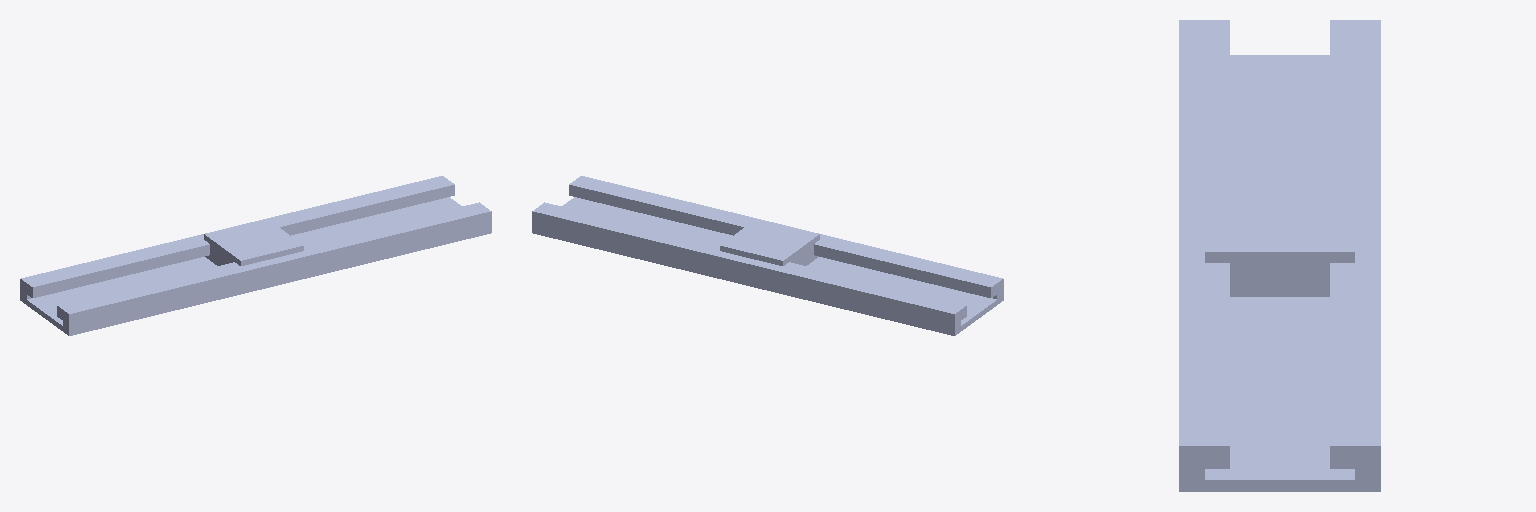
robot.urdf — gantry:
<?xml version="1.0" ?>
<!-- =================================================================================== -->
<!-- |    This document was autogenerated by xacro from gantry.urdf.xacro              | -->
<!-- |    EDITING THIS FILE BY HAND IS NOT RECOMMENDED                                 | -->
<!-- =================================================================================== -->
<robot name="gantry">
  <!--
    Base UR robot series xacro macro.

    NOTE: this is NOT a URDF. It cannot directly be loaded by consumers
    expecting a flattened '.urdf' file. See the top-level '.xacro' for that
    (but note: that .xacro must still be processed by the xacro command).

    For use in '.launch' files: use one of the 'load_urX.launch' convenience
    launch files.

    This file models the base kinematic chain of a UR robot, which then gets
    parameterised by various configuration files to convert it into a UR3(e),
    UR5(e), UR10(e), UR16e, UR20 or UR30.

    NOTE: the default kinematic parameters (ie: link lengths, frame locations,
    offets, etc) do not correspond to any particular robot. They are defaults
    only. There WILL be non-zero offsets between the Forward Kinematics results
    in TF (ie: robot_state_publisher) and the values reported by the Teach
    Pendant.

    For accurate (and robot-specific) transforms, the 'kinematics_parameters_file'
    parameter MUST point to a .yaml file containing the appropriate values for
    the targetted robot.

    If using the UniversalRobots/Universal_Robots_ROS_Driver, follow the steps
    described in the readme of that repository to extract the kinematic
    calibration from the controller and generate the required .yaml file.

    Main author of the migration to yaml configs: [author].

    Contributors to previous versions (in no particular order):

     - [author]
     - [author]
     - [author]
     - [author]
     - [author]
     - [author]
     - [author]
     - [author]
     - [author]
     - [author]
     - [author]
     - [author]
     - [author]
     - [author]
     - [author]
     - [author]
     - [author]
  -->
  <!--
    NOTE: the macro defined in this file is NOT part of the public API of this
          package. Users CANNOT rely on this file being available, or stored in
          this location. Nor can they rely on the existence of the macro.
  -->
  <transmission name="ur_shoulder_pan_trans">
    <type>transmission_interface/SimpleTransmission</type>
    <joint name="ur_shoulder_pan_joint">
      <hardwareInterface>hardware_interface/PositionJointInterface</hardwareInterface>
    </joint>
    <actuator name="ur_shoulder_pan_motor">
      <mechanicalReduction>1</mechanicalReduction>
    </actuator>
  </transmission>
  <transmission name="ur_shoulder_lift_trans">
    <type>transmission_interface/SimpleTransmission</type>
    <joint name="ur_shoulder_lift_joint">
      <hardwareInterface>hardware_interface/PositionJointInterface</hardwareInterface>
    </joint>
    <actuator name="ur_shoulder_lift_motor">
      <mechanicalReduction>1</mechanicalReduction>
    </actuator>
  </transmission>
  <transmission name="ur_elbow_trans">
    <type>transmission_interface/SimpleTransmission</type>
    <joint name="ur_elbow_joint">
      <hardwareInterface>hardware_interface/PositionJointInterface</hardwareInterface>
    </joint>
    <actuator name="ur_elbow_motor">
      <mechanicalReduction>1</mechanicalReduction>
    </actuator>
  </transmission>
  <transmission name="ur_wrist_1_trans">
    <type>transmission_interface/SimpleTransmission</type>
    <joint name="ur_wrist_1_joint">
      <hardwareInterface>hardware_interface/PositionJointInterface</hardwareInterface>
    </joint>
    <actuator name="ur_wrist_1_motor">
      <mechanicalReduction>1</mechanicalReduction>
    </actuator>
  </transmission>
  <transmission name="ur_wrist_2_trans">
    <type>transmission_interface/SimpleTransmission</type>
    <joint name="ur_wrist_2_joint">
      <hardwareInterface>hardware_interface/PositionJointInterface</hardwareInterface>
    </joint>
    <actuator name="ur_wrist_2_motor">
      <mechanicalReduction>1</mechanicalReduction>
    </actuator>
  </transmission>
  <transmission name="ur_wrist_3_trans">
    <type>transmission_interface/SimpleTransmission</type>
    <joint name="ur_wrist_3_joint">
      <hardwareInterface>hardware_interface/PositionJointInterface</hardwareInterface>
    </joint>
    <actuator name="ur_wrist_3_motor">
      <mechanicalReduction>1</mechanicalReduction>
    </actuator>
  </transmission>


  <!-- links: main serial chain -->
  <link name="bs_link">
    <inertial>
      <origin rpy="0 0 0" xyz="1.1102E-16 2.7756E-16 0.043056"/>
      <mass value="45"/>
      <inertia ixx="0.9322" ixy="-1.4174E-16" ixz="5.421E-17" iyy="15.045" iyz="-3.9613E-16" izz="15.888"/>
    </inertial>
    <visual>
      <origin rpy="0 0 0" xyz="0 0 0"/>
      <geometry>
        <mesh filename="package://gantry/meshes/bs_link.STL"/>
      </geometry>
      <material name="">
        <color rgba="0.79216 0.81961 0.93333 1"/>
      </material>
    </visual>
    <collision>
      <origin rpy="0 0 0" xyz="0 0 0"/>
      <geometry>
        <mesh filename="package://gantry/meshes/bs_link.STL"/>
      </geometry>
    </collision>
  </link>
  <link name="linear_rail">
    <inertial>
      <origin rpy="0 0 0" xyz="-1.1102E-16 0 -0.05"/>
      <mass value="7.5"/>
      <inertia ixx="0.050938" ixy="-2.7586E-18" ixz="-2.0526E-18" iyy="0.063438" iyz="4.5831E-18" izz="0.1"/>
    </inertial>
    <visual>
      <origin rpy="0 0 0" xyz="0 0 0"/>
      <geometry>
        <mesh filename="package://gantry/meshes/linear_rail.STL"/>
      </geometry>
      <material name="">
        <color rgba="0.79216 0.81961 0.93333 1"/>
      </material>
    </visual>
    <collision>
      <origin rpy="0 0 0" xyz="0 0 0"/>
      <geometry>
        <mesh filename="package://gantry/meshes/linear_rail.STL"/>
      </geometry>
    </collision>
  </link>
  <link name="ur_base_link"/>
  <link name="ur_base_link_inertia">
    <visual>
      <origin rpy="0 0 3.141592653589793" xyz="0 0 0"/>
      <geometry>
        <mesh filename="package://gantry/meshes/base.dae"/>
      </geometry>
      <material name="LightGrey">
        <color rgba="0.7 0.7 0.7 1.0"/>
      </material>
    </visual>
    <collision>
      <origin rpy="0 0 3.141592653589793" xyz="0 0 0"/>
      <geometry>
        <mesh filename="package://gantry/meshes/base.stl"/>
      </geometry>
    </collision>
    <inertial>
      <mass value="4.0"/>
      <origin rpy="0 0 0" xyz="0 0 0"/>
      <inertia ixx="0.00443333156" ixy="0.0" ixz="0.0" iyy="0.00443333156" iyz="0.0" izz="0.0072"/>
    </inertial>
  </link>
  <link name="ur_shoulder_link">
    <visual>
      <origin rpy="0 0 3.141592653589793" xyz="0 0 0"/>
      <geometry>
        <mesh filename="package://gantry/meshes/shoulder.dae"/>
      </geometry>
      <material name="LightGrey">
        <color rgba="0.7 0.7 0.7 1.0"/>
      </material>
    </visual>
    <collision>
      <origin rpy="0 0 3.141592653589793" xyz="0 0 0"/>
      <geometry>
        <mesh filename="package://gantry/meshes/shoulder.stl"/>
      </geometry>
    </collision>
    <inertial>
      <mass value="3.7"/>
      <origin rpy="0 0 0" xyz="0 0 0"/>
      <inertia ixx="0.010267495893" ixy="0.0" ixz="0.0" iyy="0.010267495893" iyz="0.0" izz="0.00666"/>
    </inertial>
  </link>
  <link name="ur_upper_arm_link">
    <visual>
      <origin rpy="1.5707963267948966 0 -1.5707963267948966" xyz="0 0 0.138"/>
      <geometry>
        <mesh filename="package://gantry/meshes/upperarm.dae"/>
      </geometry>
      <material name="LightGrey">
        <color rgba="0.7 0.7 0.7 1.0"/>
      </material>
    </visual>
    <collision>
      <origin rpy="1.5707963267948966 0 -1.5707963267948966" xyz="0 0 0.138"/>
      <geometry>
        <mesh filename="package://gantry/meshes/upperarm.stl"/>
      </geometry>
    </collision>
    <inertial>
      <mass value="8.393"/>
      <origin rpy="0 1.5707963267948966 0" xyz="-0.2125 0.0 0.138"/>
      <inertia ixx="0.1338857818623325" ixy="0.0" ixz="0.0" iyy="0.1338857818623325" iyz="0.0" izz="0.0151074"/>
    </inertial>
  </link>
  <link name="ur_forearm_link">
    <visual>
      <origin rpy="1.5707963267948966 0 -1.5707963267948966" xyz="0 0 0.007"/>
      <geometry>
        <mesh filename="package://gantry/meshes/forearm.dae"/>
      </geometry>
      <material name="LightGrey">
        <color rgba="0.7 0.7 0.7 1.0"/>
      </material>
    </visual>
    <collision>
      <origin rpy="1.5707963267948966 0 -1.5707963267948966" xyz="0 0 0.007"/>
      <geometry>
        <mesh filename="package://gantry/meshes/forearm.stl"/>
      </geometry>
    </collision>
    <inertial>
      <mass value="2.275"/>
      <origin rpy="0 1.5707963267948966 0" xyz="-0.1961 0.0 0.007"/>
      <inertia ixx="0.031209355099586295" ixy="0.0" ixz="0.0" iyy="0.031209355099586295" iyz="0.0" izz="0.004095"/>
    </inertial>
  </link>
  <link name="ur_wrist_1_link">
    <visual>
      <!-- TODO: Move this to a parameter -->
      <origin rpy="1.5707963267948966 0 0" xyz="0 0 -0.127"/>
      <geometry>
        <mesh filename="package://gantry/meshes/wrist1.dae"/>
      </geometry>
      <material name="LightGrey">
        <color rgba="0.7 0.7 0.7 1.0"/>
      </material>
    </visual>
    <collision>
      <origin rpy="1.5707963267948966 0 0" xyz="0 0 -0.127"/>
      <geometry>
        <mesh filename="package://gantry/meshes/wrist1.stl"/>
      </geometry>
    </collision>
    <inertial>
      <mass value="1.219"/>
      <origin rpy="0 0 0" xyz="0 0 0"/>
      <inertia ixx="0.0025598989760400002" ixy="0.0" ixz="0.0" iyy="0.0025598989760400002" iyz="0.0" izz="0.0021942"/>
    </inertial>
  </link>
  <link name="ur_wrist_2_link">
    <visual>
      <origin rpy="0 0 0" xyz="0 0 -0.0997"/>
      <geometry>
        <mesh filename="package://gantry/meshes/wrist2.dae"/>
      </geometry>
      <material name="LightGrey">
        <color rgba="0.7 0.7 0.7 1.0"/>
      </material>
    </visual>
    <collision>
      <origin rpy="0 0 0" xyz="0 0 -0.0997"/>
      <geometry>
        <mesh filename="package://gantry/meshes/wrist2.stl"/>
      </geometry>
    </collision>
    <inertial>
      <mass value="1.219"/>
      <origin rpy="0 0 0" xyz="0 0 0"/>
      <inertia ixx="0.0025598989760400002" ixy="0.0" ixz="0.0" iyy="0.0025598989760400002" iyz="0.0" izz="0.0021942"/>
    </inertial>
  </link>
  <link name="ur_wrist_3_link">
    <visual>
      <origin rpy="1.5707963267948966 0 0" xyz="0 0 -0.0989"/>
      <geometry>
        <mesh filename="package://gantry/meshes/wrist3.dae"/>
      </geometry>
      <material name="LightGrey">
        <color rgba="0.7 0.7 0.7 1.0"/>
      </material>
    </visual>
    <collision>
      <origin rpy="1.5707963267948966 0 0" xyz="0 0 -0.0989"/>
      <geometry>
        <mesh filename="package://gantry/meshes/wrist3.stl"/>
      </geometry>
    </collision>
    <inertial>
      <mass value="0.1879"/>
      <origin rpy="0 0 0" xyz="0.0 0.0 -0.0229"/>
      <inertia ixx="9.890410052167731e-05" ixy="0.0" ixz="0.0" iyy="9.890410052167731e-05" iyz="0.0" izz="0.0001321171875"/>
    </inertial>
  </link>

  <!-- joints: main serial chain -->
  <joint name="linear_rail" type="prismatic">
    <origin rpy="0 0 0" xyz="-0.0085429 0 0.125"/>
    <parent link="bs_link"/>
    <child link="linear_rail"/>
    <axis xyz="1 0 0"/>
    <limit effort="0" lower="-0.5" upper="0.5" velocity="0"/>
  </joint>
  <!-- Define the connection between your gantry and the UR5e base -->
  <joint name="linear_rail_to_ur_base" type="fixed">
    <parent link="linear_rail"/>
    <child link="ur_base_link"/>
    <origin rpy="0 0 0" xyz="0 0 0"/>
  </joint>

  <joint name="ur_base_link-base_link_inertia" type="fixed">
    <parent link="ur_base_link"/>
    <child link="ur_base_link_inertia"/>
    <!-- 'base_link' is REP-103 aligned (so X+ forward), while the internal
           frames of the robot/controller have X+ pointing backwards.
           Use the joint between 'base_link' and 'base_link_inertia' (a dummy
           link/frame) to introduce the necessary rotation over Z (of pi rad).
      -->
    <origin rpy="0 0 3.141592653589793" xyz="0 0 0"/>
  </joint>
  <joint name="ur_shoulder_pan_joint" type="revolute">
    <parent link="ur_base_link_inertia"/>
    <child link="ur_shoulder_link"/>
    <origin rpy="0 0 0" xyz="0 0 0.1625"/>
    <axis xyz="0 0 1"/>
    <limit effort="150.0" lower="-6.283185307179586" upper="6.283185307179586" velocity="3.141592653589793"/>
    <dynamics damping="0" friction="0"/>
  </joint>
  <joint name="ur_shoulder_lift_joint" type="revolute">
    <parent link="ur_shoulder_link"/>
    <child link="ur_upper_arm_link"/>
    <origin rpy="1.570796327 0 0" xyz="0 0 0"/>
    <axis xyz="0 0 1"/>
    <limit effort="150.0" lower="-6.283185307179586" upper="6.283185307179586" velocity="3.141592653589793"/>
    <dynamics damping="0" friction="0"/>
  </joint>
  <joint name="ur_elbow_joint" type="revolute">
    <parent link="ur_upper_arm_link"/>
    <child link="ur_forearm_link"/>
    <origin rpy="0 0 0" xyz="-0.425 0 0"/>
    <axis xyz="0 0 1"/>
    <limit effort="150.0" lower="-3.141592653589793" upper="3.141592653589793" velocity="3.141592653589793"/>
    <dynamics damping="0" friction="0"/>
  </joint>
  <joint name="ur_wrist_1_joint" type="revolute">
    <parent link="ur_forearm_link"/>
    <child link="ur_wrist_1_link"/>
    <origin rpy="0 0 0" xyz="-0.3922 0 0.1333"/>
    <axis xyz="0 0 1"/>
    <limit effort="28.0" lower="-6.283185307179586" upper="6.283185307179586" velocity="3.141592653589793"/>
    <dynamics damping="0" friction="0"/>
  </joint>
  <joint name="ur_wrist_2_joint" type="revolute">
    <parent link="ur_wrist_1_link"/>
    <child link="ur_wrist_2_link"/>
    <origin rpy="1.570796327 0 0" xyz="0 -0.0997 -2.044881182297852e-11"/>
    <axis xyz="0 0 1"/>
    <limit effort="28.0" lower="-6.283185307179586" upper="6.283185307179586" velocity="3.141592653589793"/>
    <dynamics damping="0" friction="0"/>
  </joint>
  <joint name="ur_wrist_3_joint" type="revolute">
    <parent link="ur_wrist_2_link"/>
    <child link="ur_wrist_3_link"/>
    <origin rpy="1.570796326589793 3.141592653589793 3.141592653589793" xyz="0 0.0996 -2.042830148012698e-11"/>
    <axis xyz="0 0 1"/>
    <limit effort="28.0" lower="-6.283185307179586" upper="6.283185307179586" velocity="3.141592653589793"/>
    <dynamics damping="0" friction="0"/>
  </joint>
  <!-- ROS-Industrial 'base' frame: base_link to UR 'Base' Coordinates transform -->
  <link name="ur_base"/>
  <joint name="ur_base_link-base_fixed_joint" type="fixed">
    <!-- Note the rotation over Z of pi radians: as base_link is REP-103
           aligned (ie: has X+ forward, Y+ left and Z+ up), this is needed
           to correctly align 'base' with the 'Base' coordinate system of
           the UR controller.
      -->
    <origin rpy="0 0 3.141592653589793" xyz="0 0 0"/>
    <parent link="ur_base_link"/>
    <child link="ur_base"/>
  </joint>
  <!-- ROS-Industrial 'flange' frame: attachment point for EEF models -->
  <link name="ur_flange"/>
  <joint name="ur_wrist_3-flange" type="fixed">
    <parent link="ur_wrist_3_link"/>
    <child link="ur_flange"/>
    <origin rpy="0 -1.5707963267948966 -1.5707963267948966" xyz="0 0 0"/>
  </joint>
  <!-- ROS-Industrial 'tool0' frame: all-zeros tool frame -->
  <link name="ur_tool0"/>
  <joint name="ur_flange-tool0" type="fixed">
    <!-- default toolframe: X+ left, Y+ up, Z+ front -->
    <origin rpy="1.5707963267948966 0 1.5707963267948966" xyz="0 0 0"/>
    <parent link="ur_flange"/>
    <child link="ur_tool0"/>
  </joint>
</robot>

--- Facts derived from the render (not from the file) ---
The picture shows the robot from 3 angles, left to right: view 1: azimuth 30°, elevation 25°; view 2: azimuth 150°, elevation 25°; view 3: azimuth 270°, elevation 25°; orthographic projection.
Model gantry with 13 links and 12 joints (6 revolute, 1 prismatic, 5 fixed), rooted at bs_link, posed every joint at zero.
Visible links, largest first — view 1: bs_link, linear_rail; view 2: bs_link, linear_rail; view 3: bs_link, linear_rail.
Boxes of the visible links, <box> form: bs_link: <box>20,176,491,335</box>; linear_rail: <box>204,219,303,265</box>; bs_link: <box>532,176,1003,335</box>; linear_rail: <box>720,219,819,265</box>; bs_link: <box>1179,20,1380,491</box>; linear_rail: <box>1205,188,1354,296</box>.
Bounding box of the posed robot: 2 × 0.4 × 0.125 m (x, y, z).
Meshes: 9 distinct files referenced, 2 mesh visuals loaded (2 binary STL); not drawn: 7 (reference not matched to a file when rendering).